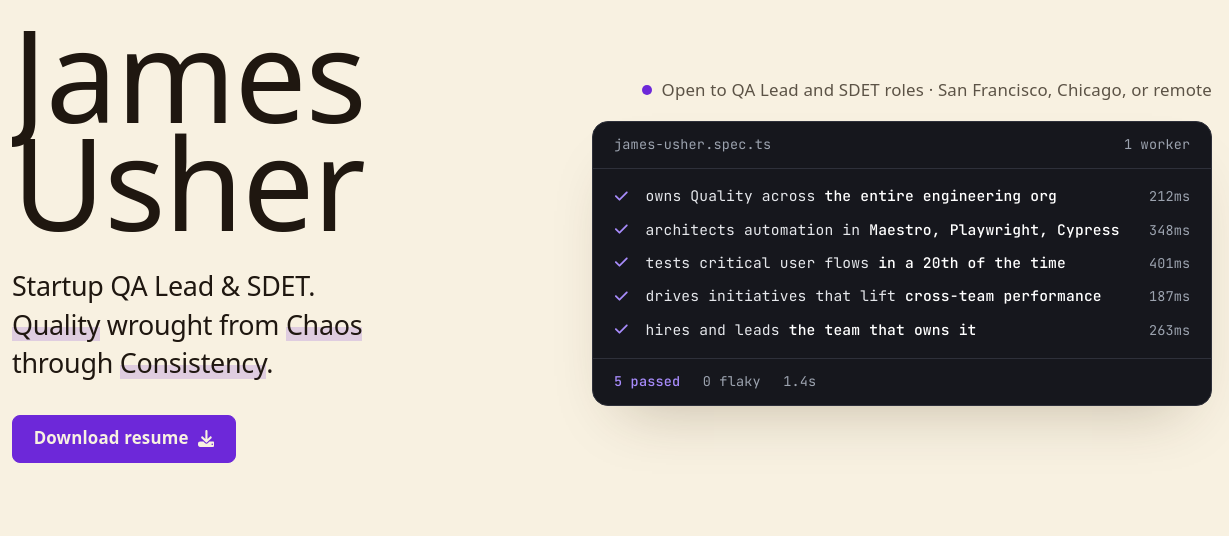
Test: Hero › turns the locator inspector on with the switch, starting on the name
Click the text "J" at (29, 74), box x1=12 y1=20 x2=46 y2=128
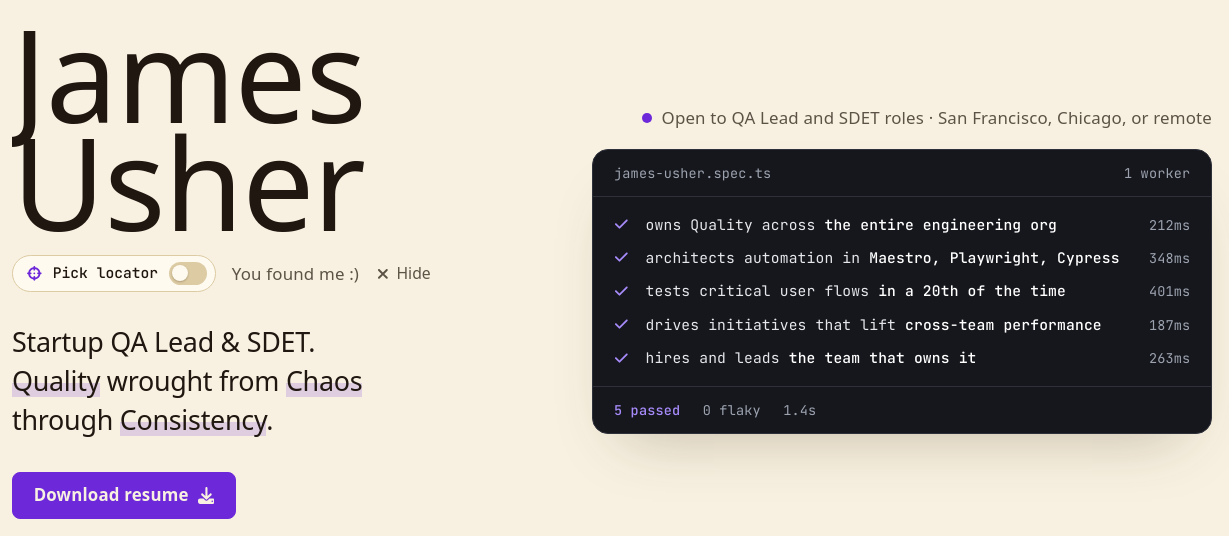
Check: the switch labelled "Pick locator" is not checked
Click the switch labelled "Pick locator" at (114, 273), box x1=12 y1=255 x2=216 y2=292
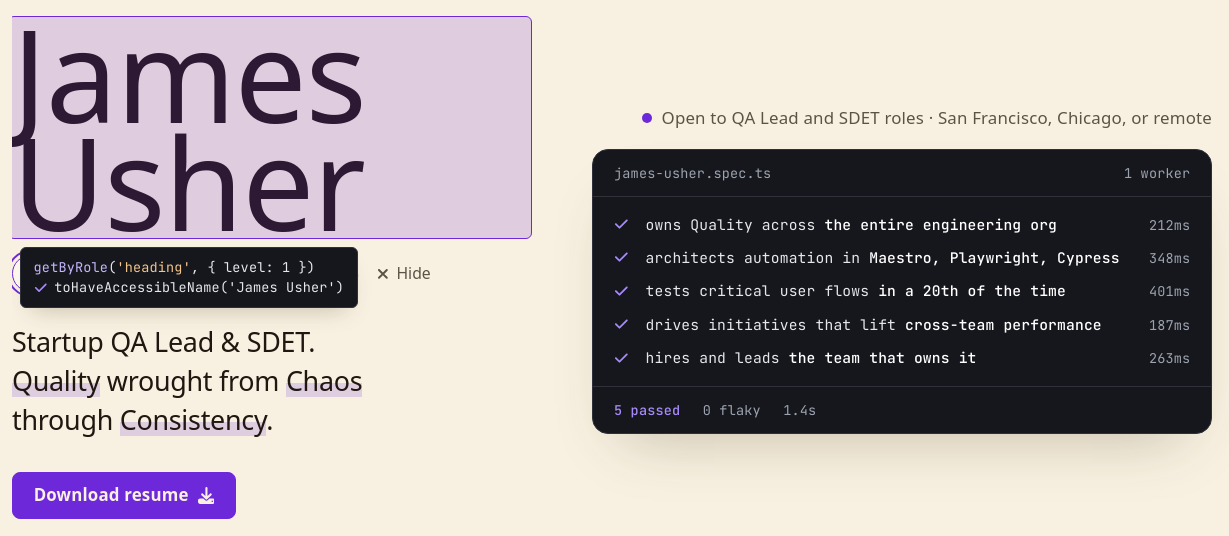
Check: the switch labelled "Pick locator" is checked
Check: the message with test id "locator-tip" shows "getByRole('heading', { level: 1 })", box x1=20 y1=247 x2=358 y2=308
Click the switch labelled "Pick locator" at (114, 273), box x1=12 y1=255 x2=216 y2=292
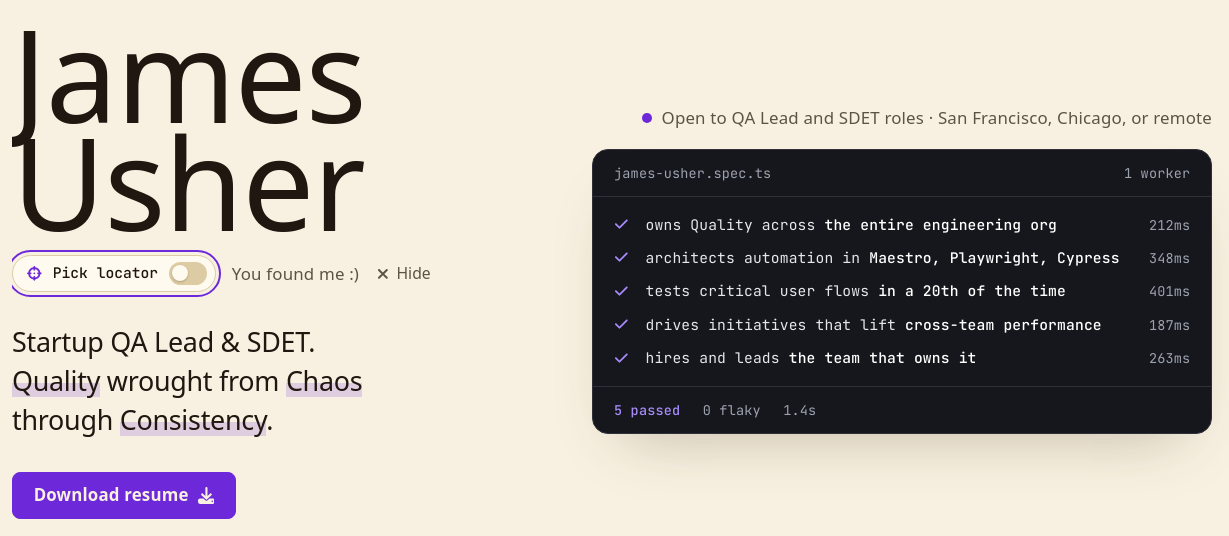
Check: the switch labelled "Pick locator" is not checked, box x1=12 y1=255 x2=216 y2=292
Check: the message with test id "locator-tip" is gone
